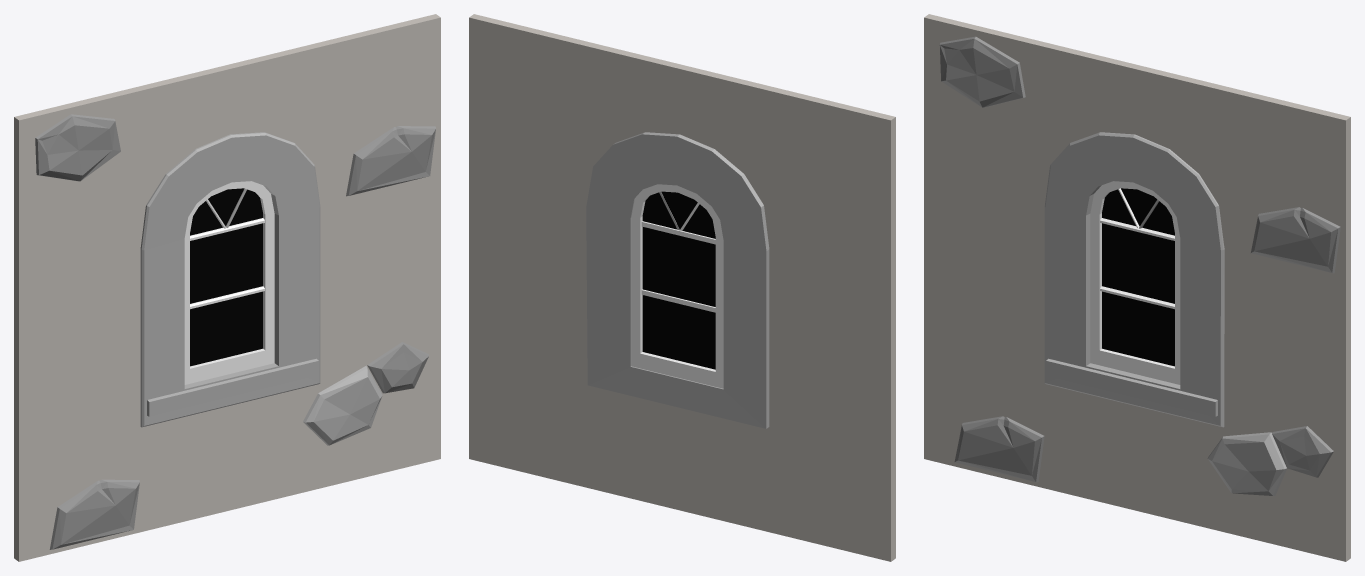
The model's file is _WINDOW_07_1.fbx.
3 renders of one model, left to right at view 1: azimuth 30°, elevation 25°; view 2: azimuth 150°, elevation 25°; view 3: azimuth 330°, elevation 25°, orthographic.
Visible parts, largest first — view 1: WINDOW_07_1; view 2: WINDOW_07_1; view 3: WINDOW_07_1.
Boxes of the visible parts, <box> form: WINDOW_07_1: <box>14,14,440,561</box>; WINDOW_07_1: <box>469,14,895,561</box>; WINDOW_07_1: <box>924,14,1350,561</box>.
Bounding box in the file's own units: 300 × 300 × 15.16.
